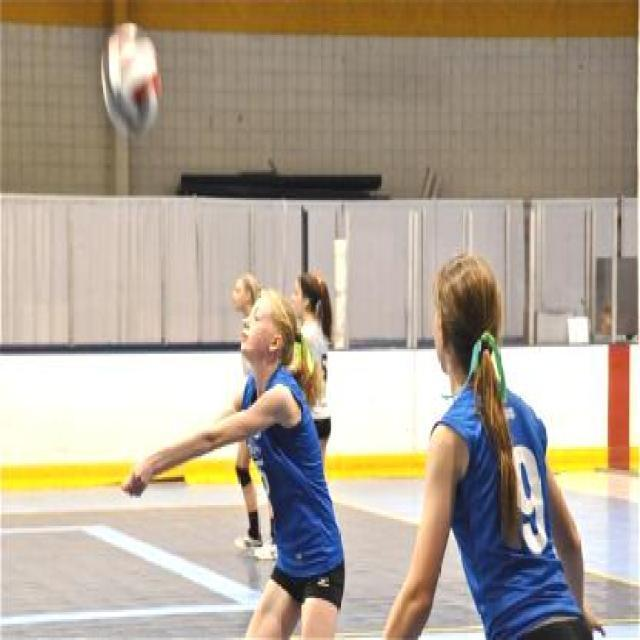volleyball: (100, 22, 160, 138)
